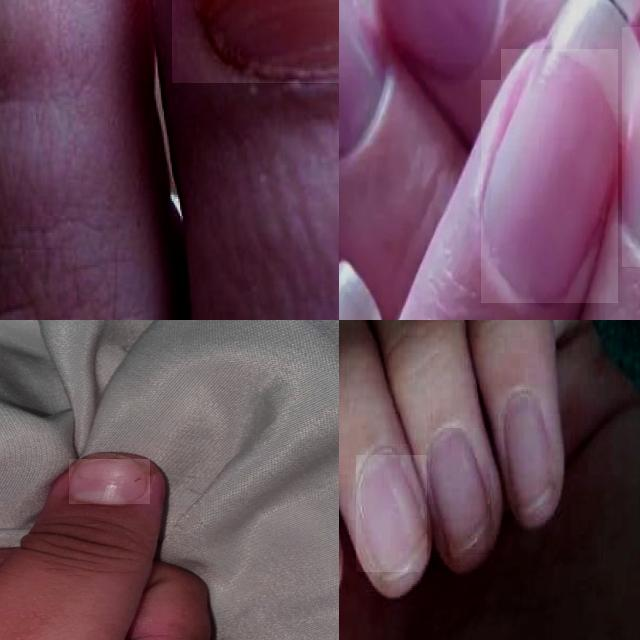sehat: (481, 49, 618, 303), (379, 0, 499, 80), (356, 456, 427, 572), (430, 426, 491, 555), (339, 0, 388, 153), (504, 394, 555, 514), (70, 460, 150, 504)
